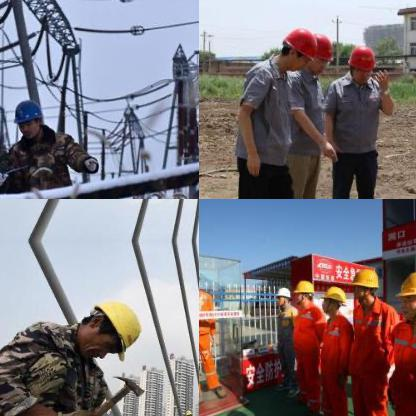Helmet: (76, 297, 148, 359), (278, 25, 320, 72), (11, 95, 45, 138), (392, 264, 415, 324), (348, 264, 378, 304), (346, 42, 375, 80), (307, 28, 331, 72), (321, 282, 345, 314), (294, 276, 314, 306), (272, 282, 292, 306), (182, 407, 192, 415)
